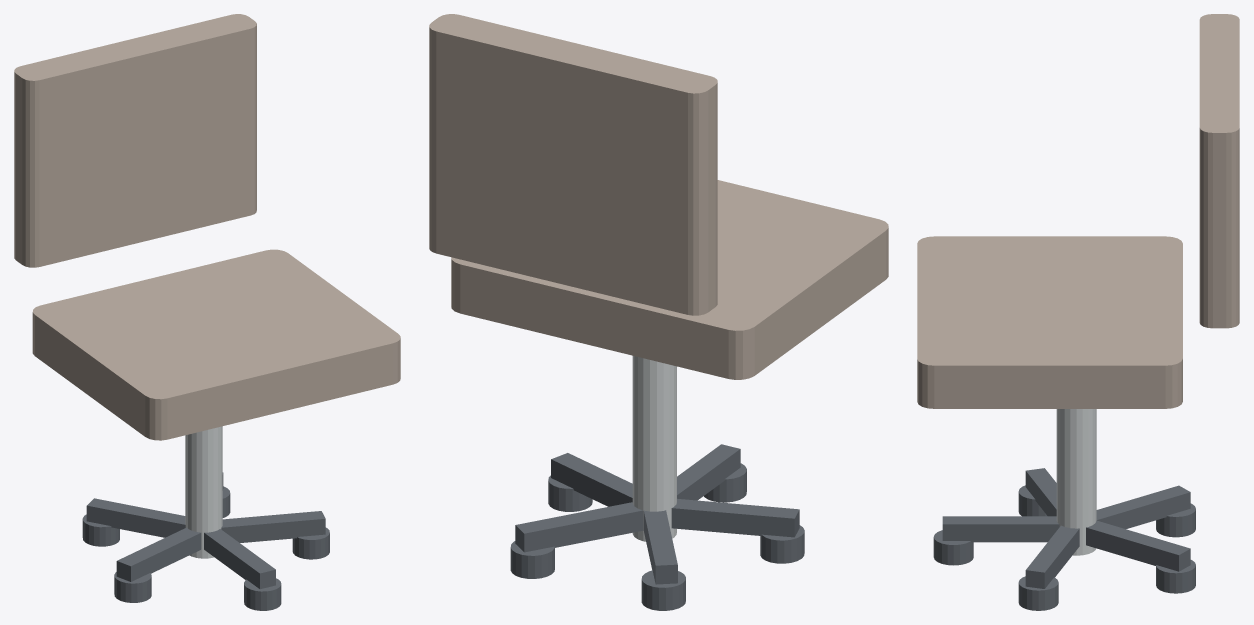
The model's file is g-reception-o04-b587afaaa0.glb.
3 renders of one model, left to right at view 1: azimuth 30°, elevation 25°; view 2: azimuth 150°, elevation 25°; view 3: azimuth 270°, elevation 25°, orthographic. The views are drawn at different scales.
Visible parts, largest first — view 1: seat, caster-arm-0, pedestal, wheel-0; view 2: seat, caster-arm-0, pedestal, wheel-0; view 3: seat, caster-arm-0, pedestal, wheel-0.
Part boxes in pixels (left/top/right/bottom): seat: left=14, top=14, right=400, bottom=440; caster-arm-0: left=86, top=472, right=325, bottom=589; pedestal: left=185, top=426, right=222, bottom=558; wheel-0: left=82, top=486, right=329, bottom=610; seat: left=429, top=14, right=888, bottom=379; caster-arm-0: left=515, top=444, right=799, bottom=584; pedestal: left=632, top=356, right=676, bottom=541; wheel-0: left=510, top=463, right=804, bottom=610; seat: left=917, top=14, right=1239, bottom=408; caster-arm-0: left=942, top=468, right=1190, bottom=588; pedestal: left=1056, top=409, right=1096, bottom=555; wheel-0: left=933, top=485, right=1195, bottom=610.
Size of the model in its own units: 0.55 by 0.96 by 0.58.
